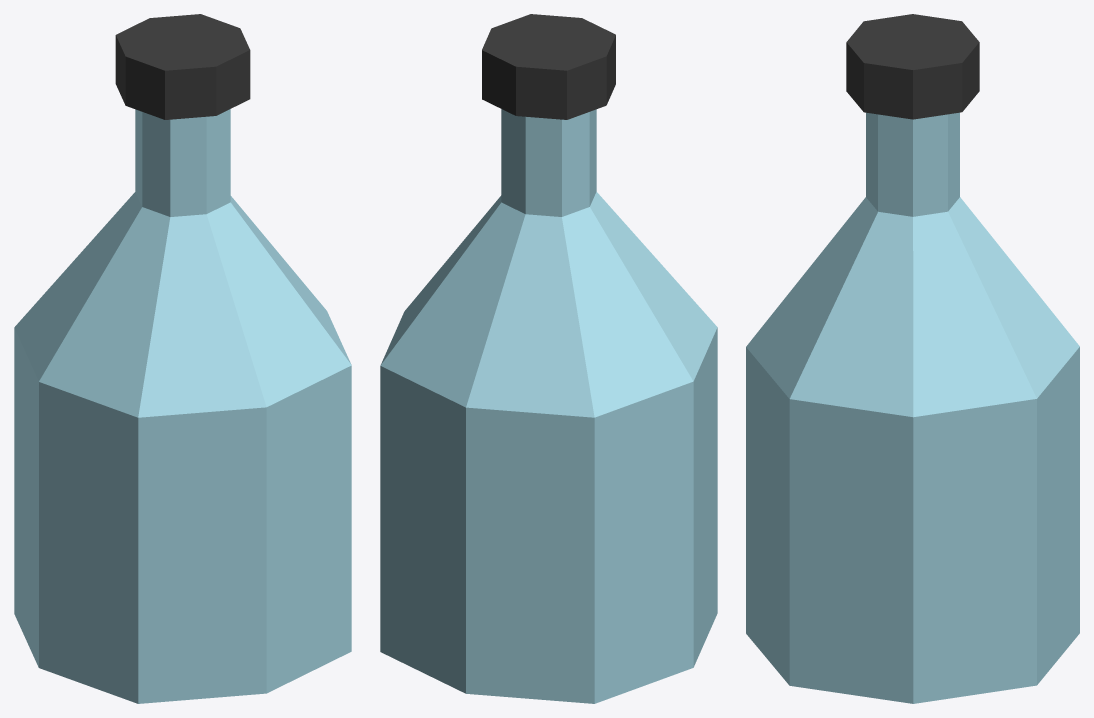
File: Kitchen_Bottle7.fbx
3 views of the same model, side by side, from view 1: azimuth 30°, elevation 25°; view 2: azimuth 150°, elevation 25°; view 3: azimuth 270°, elevation 25° (orthographic).
Parts seen in each view (by area): view 1: Kitchen_Bottle7; view 2: Kitchen_Bottle7; view 3: Kitchen_Bottle7.
Boxes of the visible parts, x1,y1,x2,y2 form: Kitchen_Bottle7: (14,14,351,703); Kitchen_Bottle7: (380,14,717,703); Kitchen_Bottle7: (746,14,1079,703).
Bounding box in the file's own units: 17.38 × 33.96 × 17.38.
